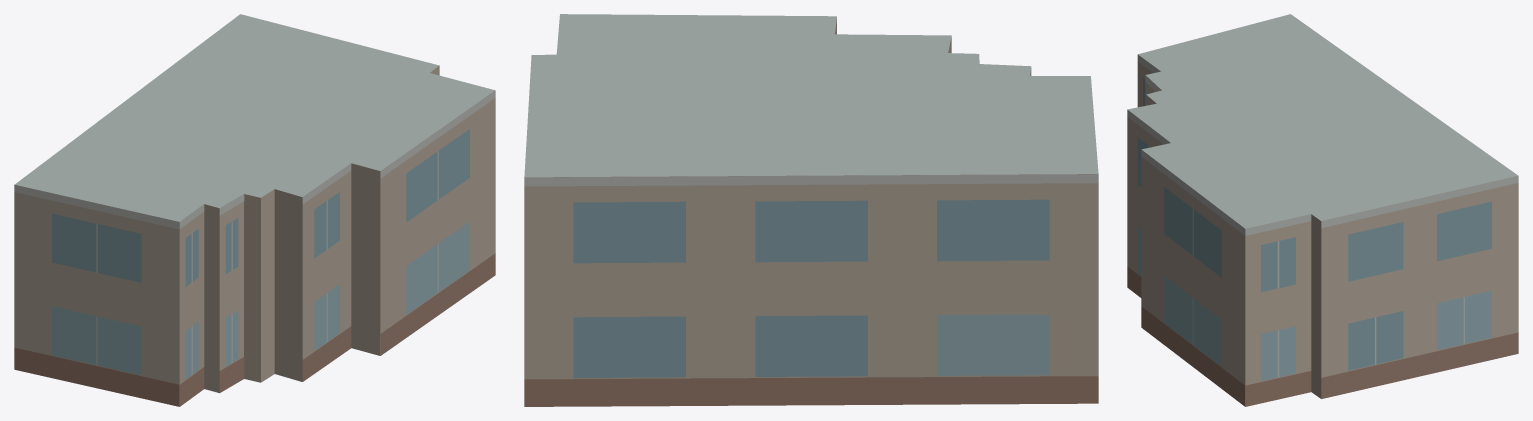
The model's file is survey-upis-32466047.glb.
The picture shows the model from 3 angles, left to right: view 1: azimuth 30°, elevation 25°; view 2: azimuth 150°, elevation 25°; view 3: azimuth 270°, elevation 25°; orthographic projection. The views are drawn at different scales.
Visible parts, largest first — view 1: survey-upis-32466047.tmp; view 2: survey-upis-32466047.tmp; view 3: survey-upis-32466047.tmp.
Part boxes in pixels (left/top/right/bottom): survey-upis-32466047.tmp: left=14, top=14, right=495, bottom=406; survey-upis-32466047.tmp: left=524, top=14, right=1098, bottom=406; survey-upis-32466047.tmp: left=1127, top=14, right=1518, bottom=406.
Bounding box in the file's own units: 15.8 × 6.1 × 12.16.
